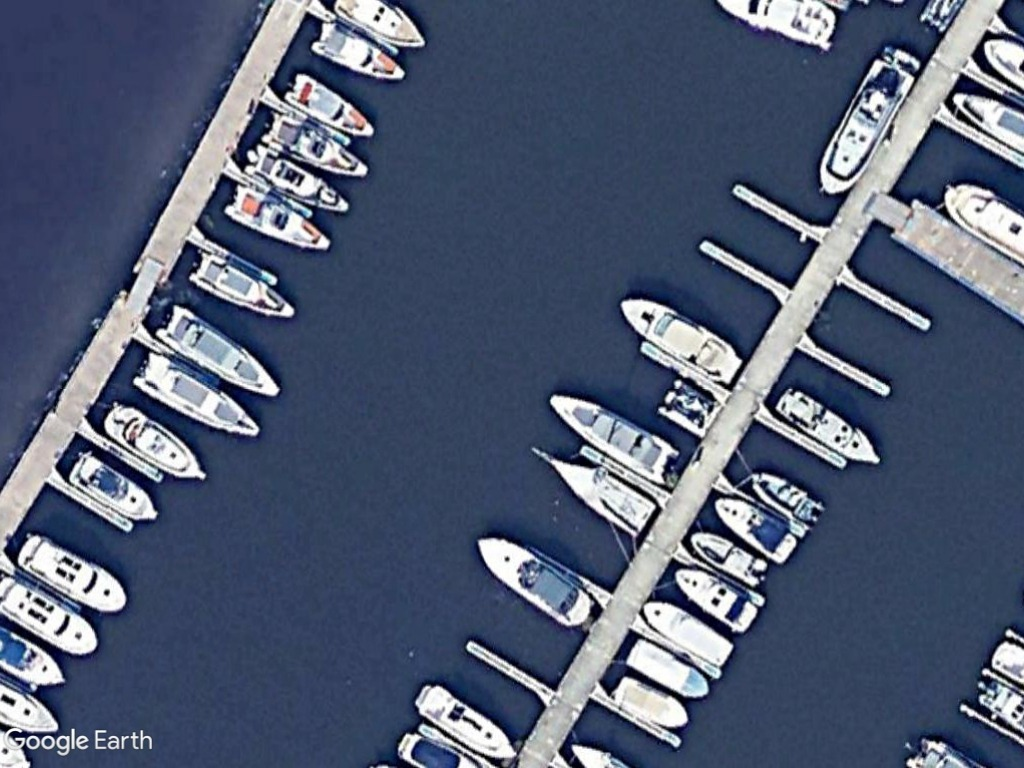boat: (814, 47, 927, 201), (154, 299, 285, 401), (544, 390, 679, 487), (470, 532, 597, 635), (614, 295, 747, 388), (528, 443, 659, 537), (131, 350, 262, 441), (12, 530, 137, 621), (773, 384, 885, 470), (410, 679, 520, 764), (101, 402, 211, 485), (241, 143, 356, 217), (0, 572, 102, 655), (224, 178, 333, 255), (260, 107, 372, 181), (188, 249, 301, 322), (65, 452, 166, 524), (640, 596, 737, 670), (309, 16, 410, 86), (283, 71, 380, 143), (709, 491, 803, 565), (673, 563, 762, 634), (622, 636, 713, 700), (688, 525, 772, 588), (746, 468, 825, 532), (609, 672, 692, 731)
